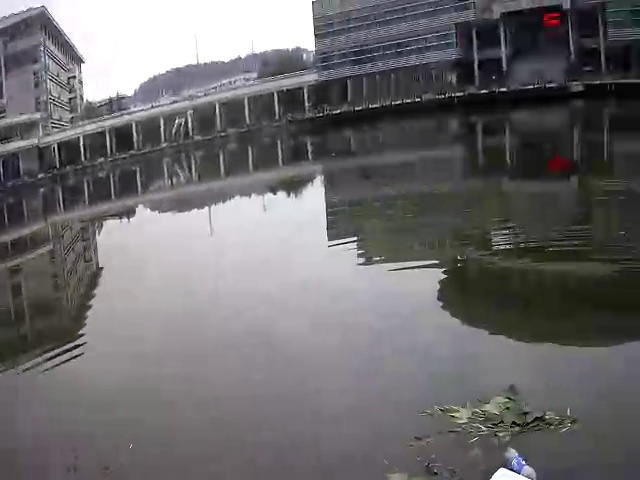bottle: (497, 442, 543, 477)
leaf: (419, 390, 574, 443)
